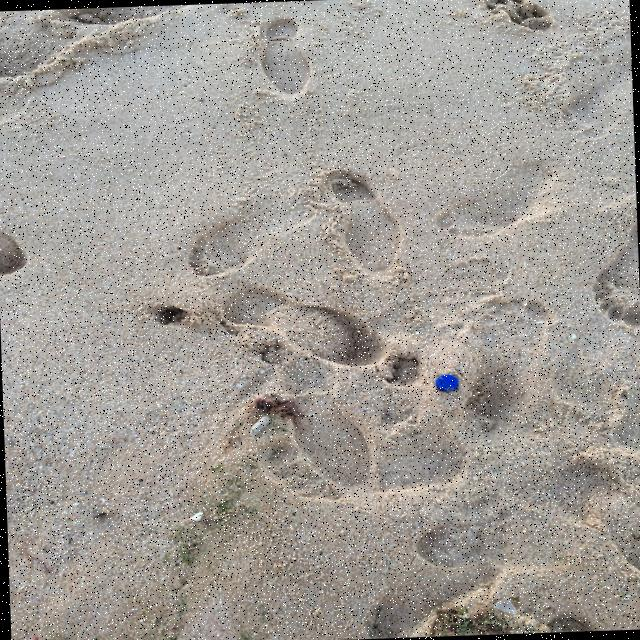Other plastic bottle: (494, 598, 518, 614)
Plastic bottle cap: (435, 375, 458, 391)
